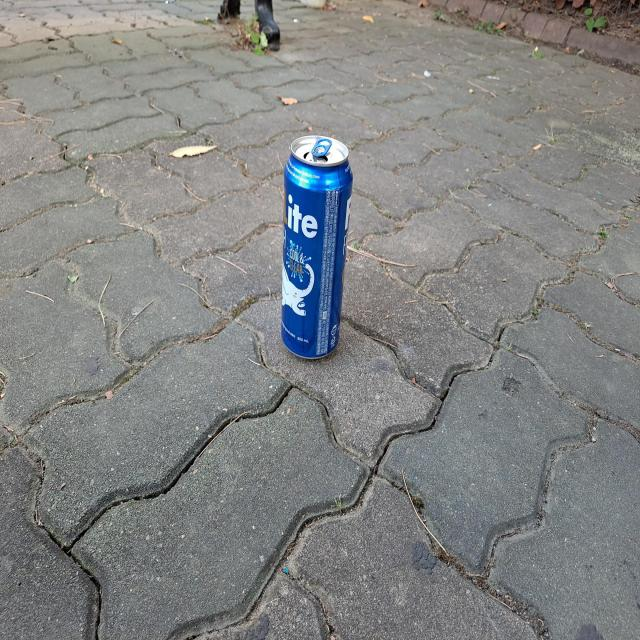can: (281, 134, 353, 358)
